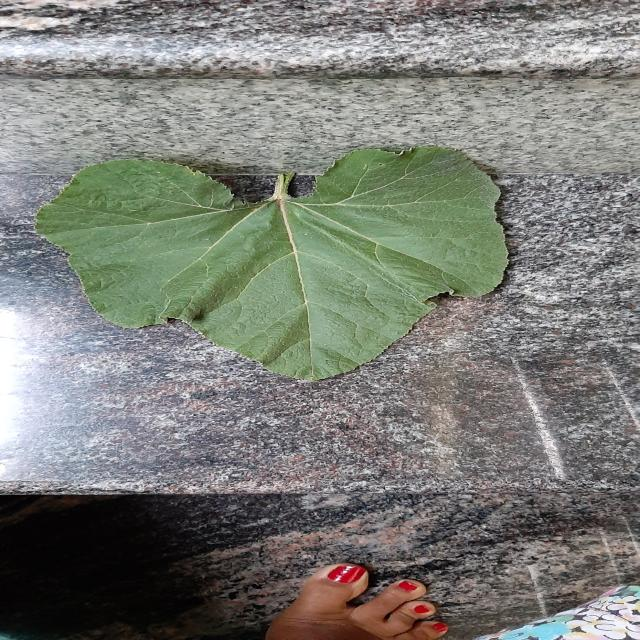pumpkin: (38, 148, 507, 381)
